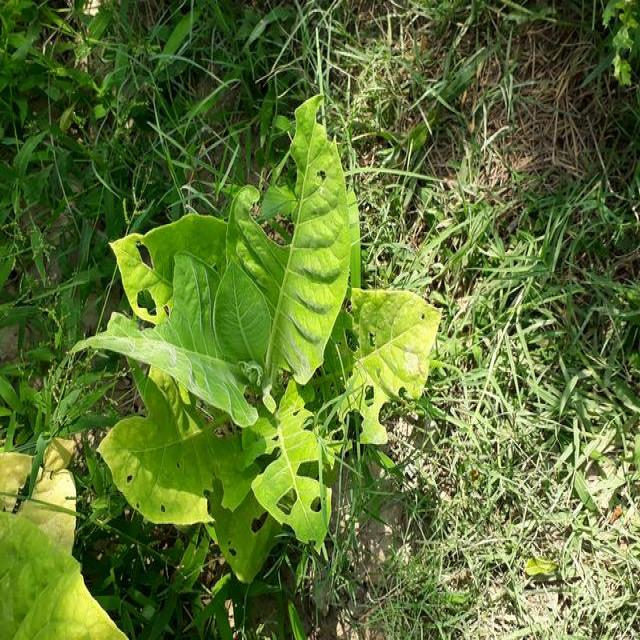crop: (82, 95, 454, 580), (3, 440, 128, 640)
